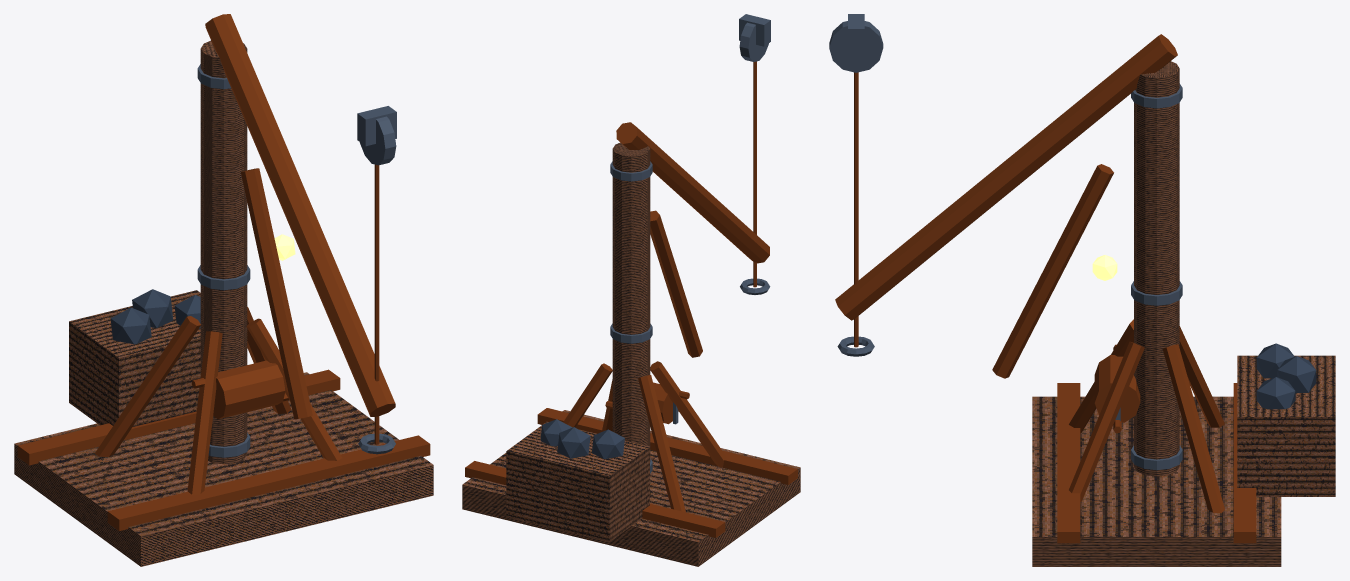
Rendered from grua.glb.
3 views of the same model, side by side, from view 1: azimuth 30°, elevation 25°; view 2: azimuth 150°, elevation 25°; view 3: azimuth 270°, elevation 25° (orthographic). The views are drawn at different scales.
Visible parts, largest first — view 1: Cube, Cylinder, Cylinder.008, Cube.004, Cube.001, Cylinder.009, Cube.002, Cylinder.012, Cylinder.005, Cylinder.007, Cylinder.006, Cylinder.011 (+8 smaller); view 2: Cube, Cube.004, Cylinder, Cylinder.008, Cube.001, Cylinder.009, Cube.002, Cylinder.005, Cylinder.007, Cylinder.004, Icosphere.002, Cylinder.011 (+7 smaller); view 3: Cube, Cylinder, Cylinder.008, Cube.004, Cylinder.009, Cube.001, Cylinder.004, Cylinder.006, Cube.002, Cylinder.010, Cylinder.012, Cylinder.005 (+9 smaller).
Part boxes in pixels (x1,y1,x2,y2): Cube: [14, 372, 433, 566]; Cylinder: [200, 40, 247, 463]; Cylinder.008: [205, 14, 395, 416]; Cube.004: [69, 290, 200, 426]; Cube.001: [107, 435, 430, 531]; Cylinder.009: [240, 168, 312, 419]; Cube.002: [17, 369, 340, 465]; Cylinder.012: [213, 360, 285, 419]; Cylinder.005: [95, 316, 200, 456]; Cylinder.007: [187, 331, 222, 494]; Cylinder.006: [246, 318, 342, 460]; Cylinder.011: [374, 164, 379, 444]; Cube: [462, 410, 800, 566]; Cube.004: [506, 421, 649, 541]; Cylinder: [612, 142, 650, 475]; Cylinder.008: [616, 122, 769, 263]; Cube.001: [537, 408, 797, 484]; Cylinder.009: [650, 210, 702, 357]; Cube.002: [465, 461, 725, 537]; Cylinder.005: [638, 375, 685, 512]; Cylinder.007: [650, 361, 726, 467]; Cylinder.004: [563, 363, 612, 427]; Icosphere.002: [557, 427, 590, 458]; Cylinder.011: [753, 61, 756, 287]; Cube: [1032, 396, 1281, 566]; Cylinder: [1134, 61, 1179, 476]; Cylinder.008: [835, 34, 1177, 320]; Cube.004: [1237, 355, 1335, 496]; Cylinder.009: [992, 164, 1113, 378]; Cube.001: [1057, 383, 1080, 543]; Cylinder.004: [1162, 344, 1224, 512]; Cylinder.006: [1069, 341, 1144, 501]; Cube.002: [1233, 383, 1256, 543]; Cylinder.010: [829, 21, 883, 72]; Cylinder.012: [1094, 355, 1140, 422]; Cylinder.005: [1179, 326, 1224, 427].
Size of the model in its own units: 3.4 by 5.06 by 4.89.
Materials: 6 (1 with a texture image).
